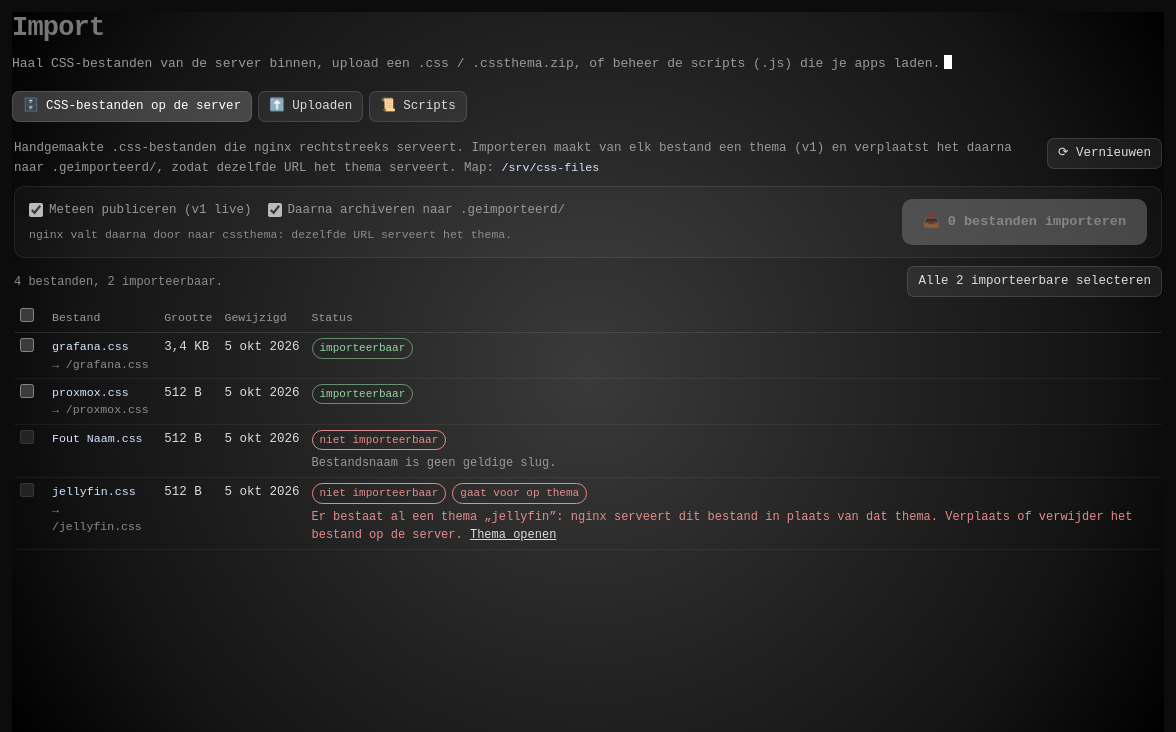
Test: Import: CSS-bestanden op de server › selecteert importeerbare bestanden (alles, per rij, kop-vakje)
Expected: the table is shown, x1=14 y1=303 x2=1162 y2=550
Expected: the button "📥 0 bestanden importeren" is disabled, x1=902 y1=199 x2=1147 y2=245
Click the checkbox named "grafana.css selecteren" in the row of "3,4 KB": x=27, y=345 x1=20 y1=338 x2=34 y2=352
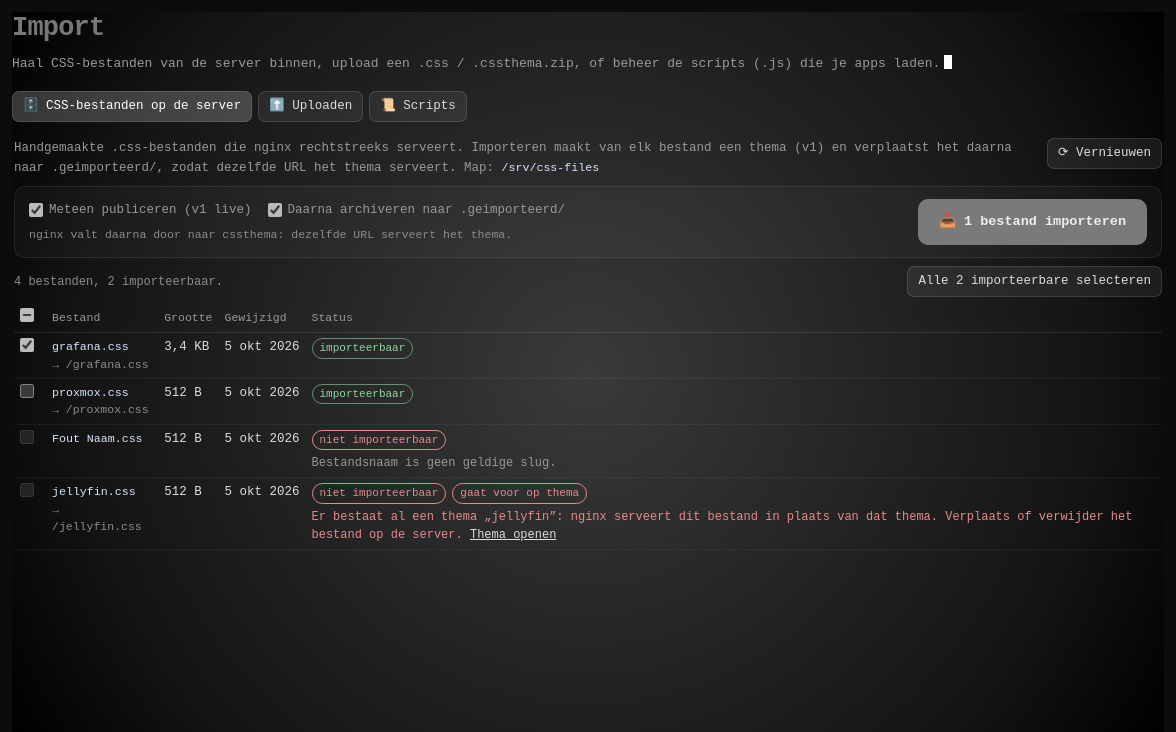
Expected: the button "📥 1 bestand importeren" is enabled, x1=918 y1=199 x2=1147 y2=245
Click the button "Alle 2 importeerbare selecteren": x=1035, y=282 x1=908 y1=266 x2=1162 y2=297
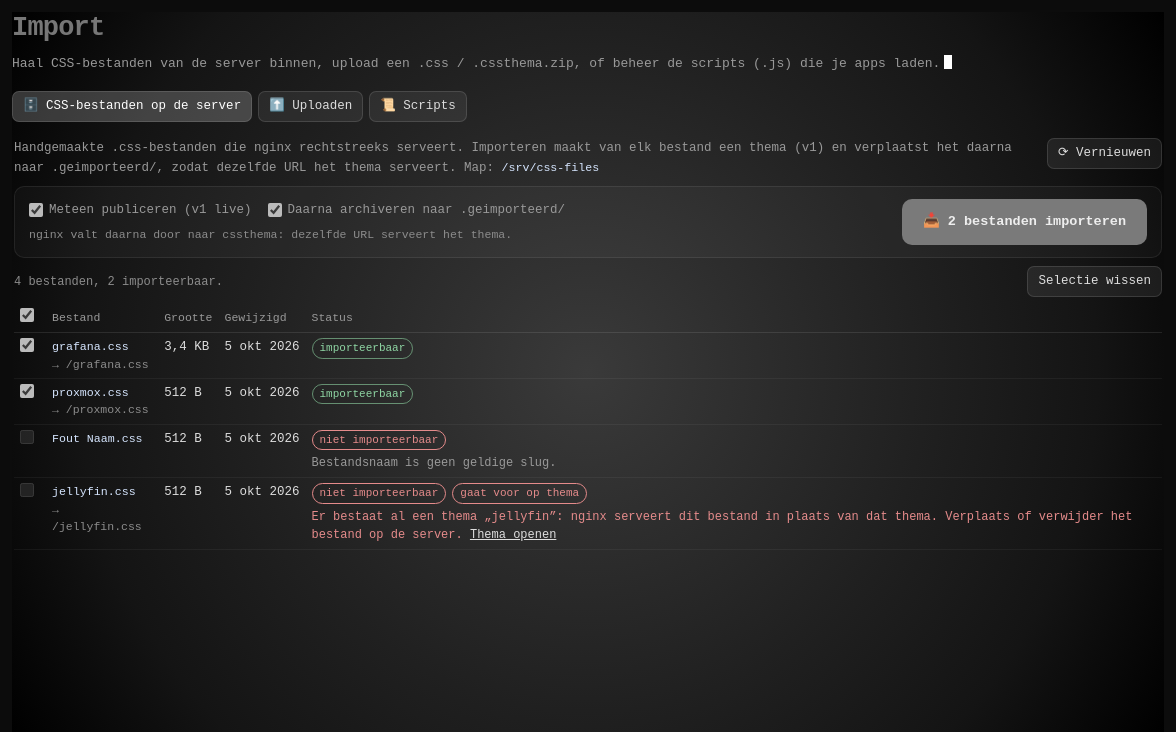
Expected: the button "📥 2 bestanden importeren" is enabled, x1=902 y1=199 x2=1147 y2=245
Expected: the checkbox named "Alle importeerbare bestanden selecteren" in the row of "Grootte" is checked, x1=20 y1=308 x2=34 y2=322
Click the button "Selectie wissen": x=1095, y=282 x1=1028 y1=266 x2=1162 y2=297
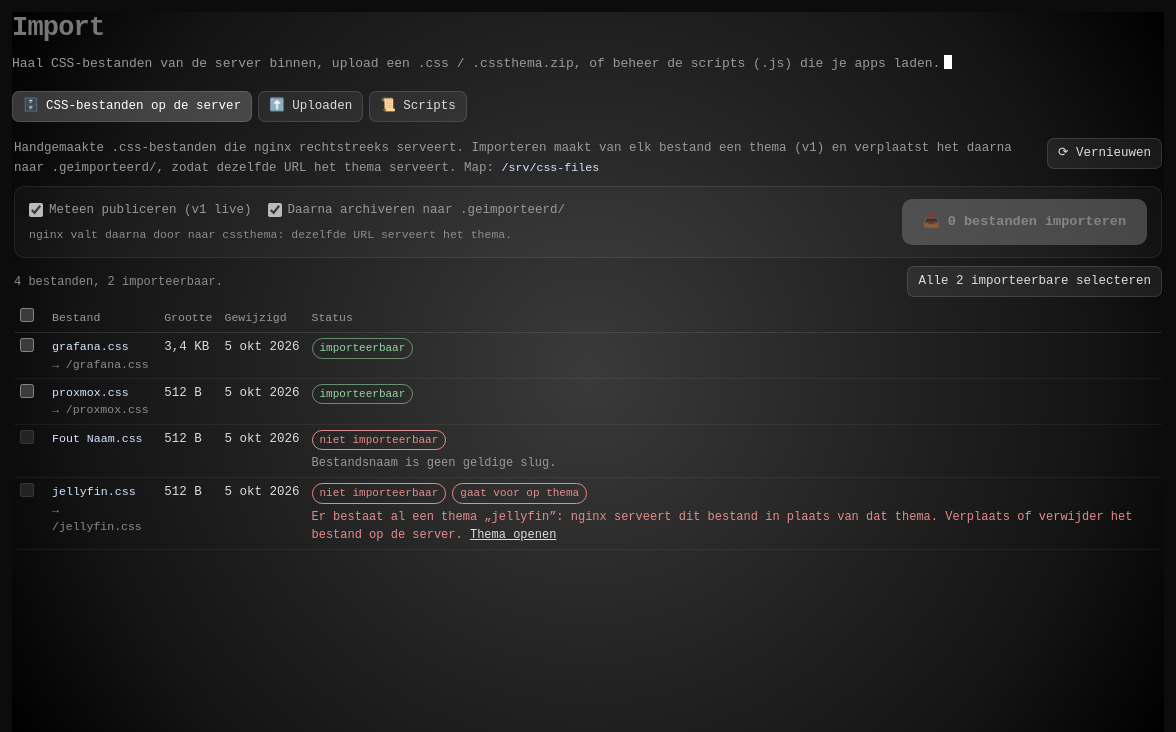
Expected: the button "📥 0 bestanden importeren" is disabled, x1=902 y1=199 x2=1147 y2=245
